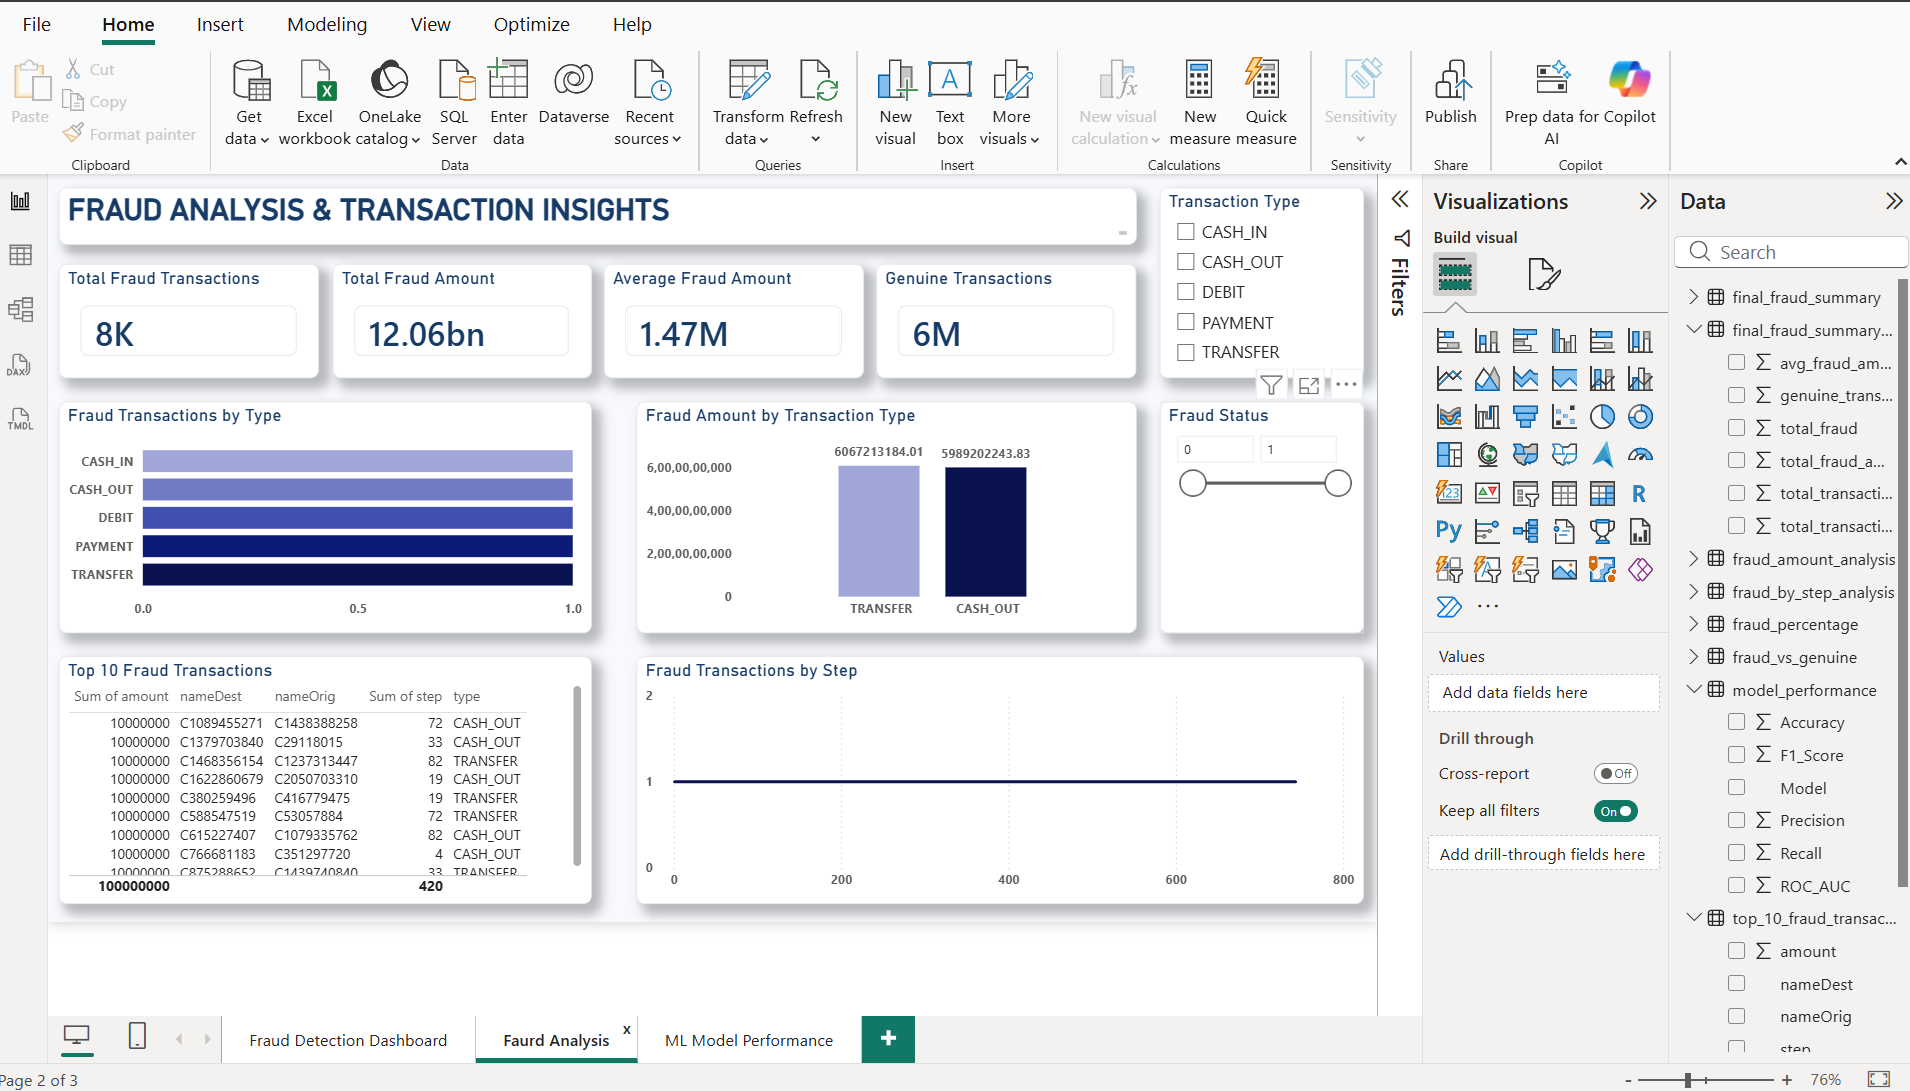

The page's visual inventory and layout, read from the dashboard file:
{"tool":"powerbi","page":{"name":"Faurd Analysis","canvas":[1280,720],"ordinal":1},"visuals":[{"type":"textbox","title":"FRAUD ANALYSIS & TRANSACTION INSIGHTS","box":[10.5,13.1,1037.7,55.1],"z":0},{"type":"cardVisual","title":"Total Fraud Transactions","fields":{"Data":["Sum(final_fraud_summary (2).total_fraud)"]},"box":[10.5,86.6,250.6,110.2],"z":1000},{"type":"cardVisual","title":"Total Fraud Amount","fields":{"Data":["Sum(final_fraud_summary (2).total_fraud_amount)"]},"box":[274.2,86.6,249.3,110.2],"z":2000},{"type":"cardVisual","title":"Average Fraud Amount","fields":{"Data":["Sum(final_fraud_summary (2).avg_fraud_amount)"]},"box":[535.2,86.6,250.6,110.2],"z":3000},{"type":"cardVisual","title":"Genuine Transactions","fields":{"Data":["Sum(final_fraud_summary (2).genuine_transactions)"]},"box":[797.6,86.6,250.6,110.2],"z":4000},{"type":"clusteredBarChart","title":"Fraud Transactions by Type","fields":{"Category":["transaction_type_analysis.type"],"Y":["CountNonNull(transaction_type_analysis.fraud_transactions)"]},"box":[10.5,219.1,512.9,223],"z":5000},{"type":"clusteredColumnChart","title":"Fraud Amount by Transaction Type","fields":{"Y":["Sum(fraud_amount_analysis.total_fraud_amount)"],"Category":["fraud_amount_analysis.type"]},"box":[566.7,219.1,481.5,223],"z":6000},{"type":"tableEx","title":"Top 10 Fraud Transactions","fields":{"Values":["Sum(top_10_fraud_transactions.amount)","top_10_fraud_transactions.nameDest","top_10_fraud_transactions.nameOrig","Sum(top_10_fraud_transactions.step)","top_10_fraud_transactions.type"]},"box":[10.5,464.4,512.9,238.8],"z":7000},{"type":"lineChart","title":"Fraud Transactions by Step","fields":{"Category":["fraud_by_step_analysis.step"],"Y":["CountNonNull(fraud_by_step_analysis.Fraud_Transactions)"]},"box":[566.7,464.4,700.5,238.8],"z":8000},{"type":"slicer","title":"Transaction Type","fields":{"Values":["transaction_type_analysis.type"]},"box":[1070.5,13.1,196.8,183.7],"z":9000},{"type":"slicer","title":"Fraud Status","fields":{"Values":["fraud_vs_genuine.isFraud"]},"box":[1070.5,219.1,196.8,223],"z":10000}]}

Visuals, with their boxes on the page's 1280x720 design canvas (x1, y1, x2, y2). These are canvas units, not pixel positions in the 1910x1091 screenshot, which may show the page scaled, cropped or inside an application window:
"FRAUD ANALYSIS & TRANSACTION INSIGHTS" textbox: x1=10, y1=13, x2=1048, y2=68
"Total Fraud Transactions" cardVisual: x1=10, y1=87, x2=261, y2=197
"Total Fraud Amount" cardVisual: x1=274, y1=87, x2=524, y2=197
"Average Fraud Amount" cardVisual: x1=535, y1=87, x2=786, y2=197
"Genuine Transactions" cardVisual: x1=798, y1=87, x2=1048, y2=197
"Fraud Transactions by Type" clusteredBarChart: x1=10, y1=219, x2=523, y2=442
"Fraud Amount by Transaction Type" clusteredColumnChart: x1=567, y1=219, x2=1048, y2=442
"Top 10 Fraud Transactions" tableEx: x1=10, y1=464, x2=523, y2=703
"Fraud Transactions by Step" lineChart: x1=567, y1=464, x2=1267, y2=703
"Transaction Type" slicer: x1=1070, y1=13, x2=1267, y2=197
"Fraud Status" slicer: x1=1070, y1=219, x2=1267, y2=442
